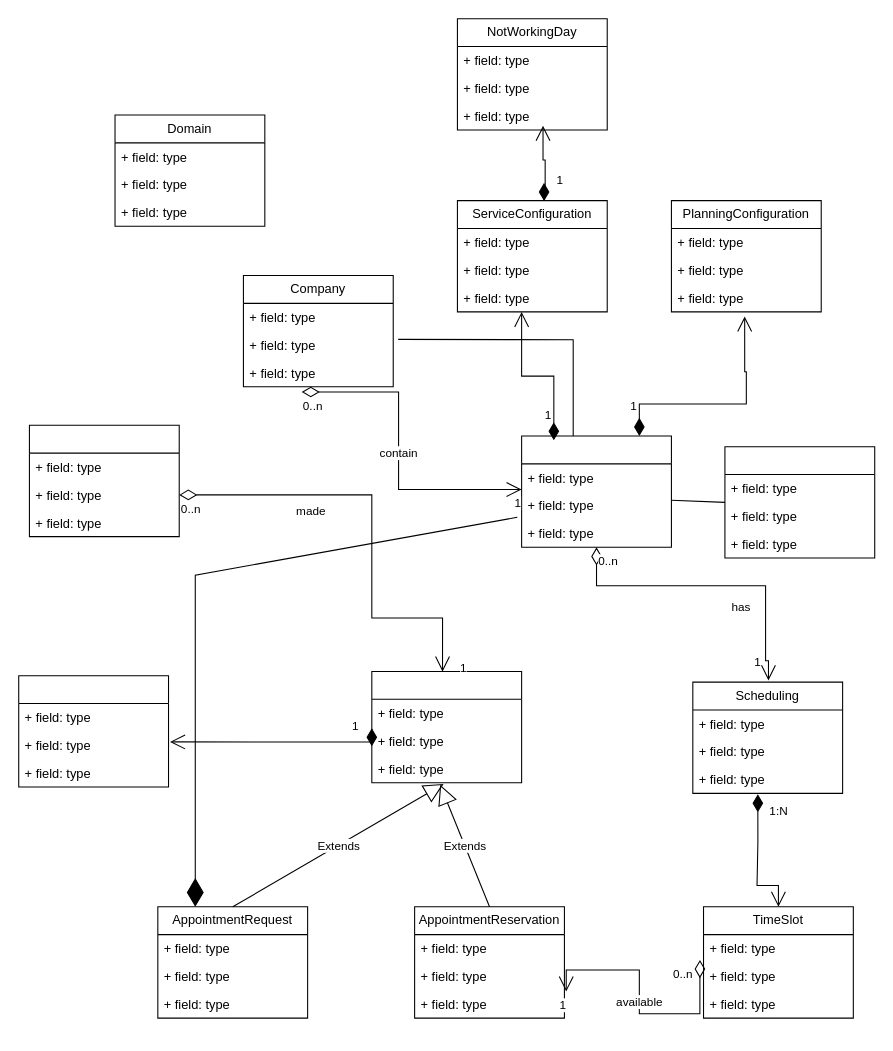
The diagram is 893 pixels wide and 1051 high, and some of its shapes have lost their labels. Each missing label, with the box of its shape:
Appointment: (371, 670, 522, 783)
AppointmentLabel: (18, 675, 169, 787)
Client: (28, 424, 179, 537)
Service: (521, 435, 671, 547)
ServiceType: (724, 446, 875, 558)
